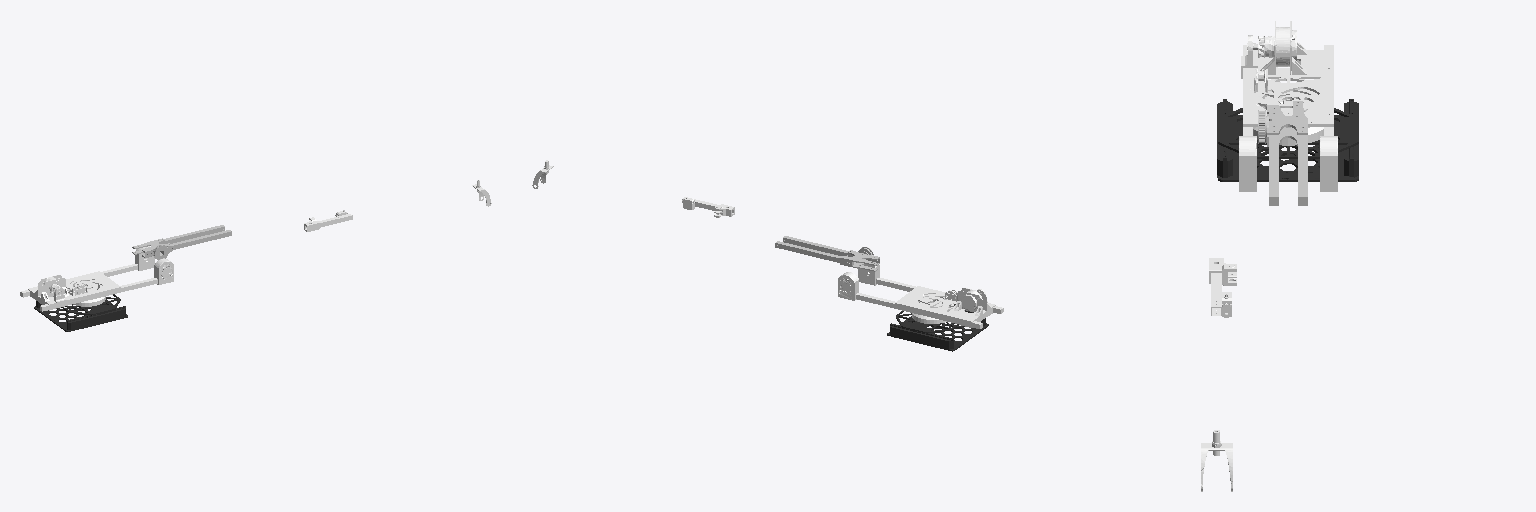
robot.urdf — arm:
<?xml version="1.0" encoding="utf-8"?>
<!-- This URDF was automatically created by SolidWorks to URDF Exporter! Originally created by Stephen Brawner (brawner@gmail.com) 
     Commit Version: 1.6.0-4-g7f85cfe  Build Version: 1.6.7995.38578
     For more information, please see http://wiki.ros.org/sw_urdf_exporter -->
<robot
  name="arm">
  <link
    name="base_link">
    <inertial>
      <origin
        xyz="-0.016869872878182 -7.25086812364342E-05 -0.0191399749243649"
        rpy="0 0 0" />
      <mass
        value="1.51115460246734" />
      <inertia
        ixx="0.00512915549939724"
        ixy="1.34002461176202E-05"
        ixz="-1.5805511307283E-12"
        iyy="0.00871416793501376"
        iyz="1.25382019510717E-11"
        izz="0.0138379553843523" />
    </inertial>
    <visual>
      <origin
        xyz="0 0 0"
        rpy="0 0 0" />
      <geometry>
        <mesh
          filename="package://arm/meshes/base_link.STL" />
      </geometry>
      <material
        name="">
        <color
          rgba="0.250980392156863 0.250980392156863 0.250980392156863 1" />
      </material>
    </visual>
    <collision>
      <origin
        xyz="0 0 0"
        rpy="0 0 0" />
      <geometry>
        <mesh
          filename="package://arm/meshes/base_link.STL" />
      </geometry>
    </collision>
  </link>
  <link
    name="link1">
    <inertial>
      <origin
        xyz="0.0350830336741171 -0.00415934285815935 0.00218726077552271"
        rpy="0 0 0" />
      <mass
        value="2.52839234415653" />
      <inertia
        ixx="0.0034868807361204"
        ixy="-9.28341215280675E-06"
        ixz="-1.51421027245075E-06"
        iyy="0.0206826977793449"
        iyz="-2.49745487927417E-06"
        izz="0.0227755526534273" />
    </inertial>
    <visual>
      <origin
        xyz="0 0 0"
        rpy="0 0 0" />
      <geometry>
        <mesh
          filename="package://arm/meshes/link1.STL" />
      </geometry>
      <material
        name="">
        <color
          rgba="1 1 1 1" />
      </material>
    </visual>
    <collision>
      <origin
        xyz="0 0 0"
        rpy="0 0 0" />
      <geometry>
        <mesh
          filename="package://arm/meshes/link1.STL" />
      </geometry>
    </collision>
  </link>
  <joint
    name="joint1"
    type="revolute">
    <origin
      xyz="-3.2465E-05 1.0134E-05 0.066"
      rpy="0 0 0" />
    <parent
      link="base_link" />
    <child
      link="link1" />
    <axis
      xyz="0 0 -1" />
    <limit
      lower="-1"
      upper="1"
      effort="0"
      velocity="0" />
  </joint>
  <link
    name="link2">
    <inertial>
      <origin
        xyz="0.0857608058219387 -1.62146361615267E-09 -0.0348304697329126"
        rpy="0 0 0" />
      <mass
        value="0.549716905790998" />
      <inertia
        ixx="0.000148718700889303"
        ixy="-1.83049156138468E-11"
        ixz="-2.7823136677564E-06"
        iyy="0.00299499105373979"
        iyz="-2.28181910070197E-11"
        izz="0.00290488995742491" />
    </inertial>
    <visual>
      <origin
        xyz="0 0 0"
        rpy="0 0 0" />
      <geometry>
        <mesh
          filename="package://arm/meshes/link2.STL" />
      </geometry>
      <material
        name="">
        <color
          rgba="0.847058823529412 0.847058823529412 0.847058823529412 1" />
      </material>
    </visual>
    <collision>
      <origin
        xyz="0 0 0"
        rpy="0 0 0" />
      <geometry>
        <mesh
          filename="package://arm/meshes/link2.STL" />
      </geometry>
    </collision>
  </link>
  <joint
    name="joint2"
    type="revolute">
    <origin
      xyz="0.3275 -0.0435 0.0985"
      rpy="1.5708 0 0" />
    <parent
      link="link1" />
    <child
      link="link2" />
    <axis
      xyz="0 0 1" />
    <limit
      lower="-1"
      upper="1"
      effort="0"
      velocity="0" />
  </joint>
  <link
    name="link3">
    <inertial>
      <origin
        xyz="0.0651512472133345 -0.00931897166971898 -0.000171100160753751"
        rpy="0 0 0" />
      <mass
        value="0.122270691158031" />
      <inertia
        ixx="2.91569573749936E-05"
        ixy="5.76405724844773E-06"
        ixz="-1.69858636443256E-07"
        iyy="0.000133645083707022"
        iyz="1.33491397958492E-07"
        izz="0.000136289156439715" />
    </inertial>
    <visual>
      <origin
        xyz="0 0 0"
        rpy="0 0 0" />
      <geometry>
        <mesh
          filename="package://arm/meshes/link3.STL" />
      </geometry>
      <material
        name="">
        <color
          rgba="1 1 1 1" />
      </material>
    </visual>
    <collision>
      <origin
        xyz="0 0 0"
        rpy="0 0 0" />
      <geometry>
        <mesh
          filename="package://arm/meshes/link3.STL" />
      </geometry>
    </collision>
  </link>
  <joint
    name="joint3"
    type="revolute">
    <origin
      xyz="0.6675 0 0.0985"
      rpy="1.5708 0 0" />
    <parent
      link="link2" />
    <child
      link="link3" />
    <axis
      xyz="0 0 1" />
    <limit
      lower="-1"
      upper="1"
      effort="0"
      velocity="0" />
  </joint>
  <link
    name="link4">
    <inertial>
      <origin
        xyz="-0.0180143425602793 -0.0494695111798099 0.0239052844480039"
        rpy="0 0 0" />
      <mass
        value="0.0478316913769084" />
      <inertia
        ixx="4.97476467538955E-05"
        ixy="-9.57855804930017E-06"
        ixz="2.49424727468678E-07"
        iyy="3.49339849733935E-05"
        iyz="7.34300502151481E-07"
        izz="2.91036780131539E-05" />
    </inertial>
    <visual>
      <origin
        xyz="0 0 0"
        rpy="0 0 0" />
      <geometry>
        <mesh
          filename="package://arm/meshes/link4.STL" />
      </geometry>
      <material
        name="">
        <color
          rgba="1 1 1 1" />
      </material>
    </visual>
    <collision>
      <origin
        xyz="0 0 0"
        rpy="0 0 0" />
      <geometry>
        <mesh
          filename="package://arm/meshes/link4.STL" />
      </geometry>
    </collision>
  </link>
  <joint
    name="joint4"
    type="revolute">
    <origin
      xyz="0.8375 0.02375 0.078344"
      rpy="1.5708 0 0" />
    <parent
      link="link3" />
    <child
      link="link4" />
    <axis
      xyz="0 0 1" />
    <limit
      lower="-1"
      upper="1"
      effort="0"
      velocity="0" />
  </joint>
</robot>

--- What the picture shows (computed from the rendered views, not written in the file) ---
The picture shows the robot from 3 angles, left to right: view 1: azimuth 30°, elevation 25°; view 2: azimuth 150°, elevation 25°; view 3: azimuth 270°, elevation 25°; orthographic projection.
Robot: arm — 5 links, 4 joints (4 revolute); root link base_link; default pose: all joints at 0.
Links seen in each view (by area): view 1: link1, base_link, link2; view 2: link1, base_link, link2; view 3: link1, base_link, link2, link3, link4.
Boxes of the visible links, <box> form: link1: <box>20,246,173,311</box>; base_link: <box>34,294,127,331</box>; link2: <box>132,225,231,259</box>; link1: <box>838,264,1003,328</box>; base_link: <box>887,304,988,351</box>; link2: <box>775,236,879,271</box>; link1: <box>1239,21,1337,191</box>; base_link: <box>1217,99,1358,181</box>; link2: <box>1258,101,1307,205</box>; link3: <box>1209,258,1236,317</box>; link4: <box>1201,430,1232,491</box>.
Bounding box of the posed robot: 2.11 × 0.3132 × 0.248 m (x, y, z).
Meshes: 5 distinct files referenced, 5 mesh visuals loaded (5 binary STL).
